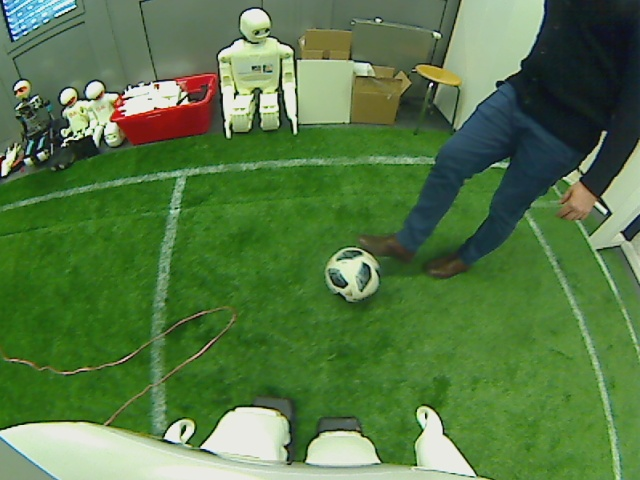ball: (323, 248, 381, 302)
